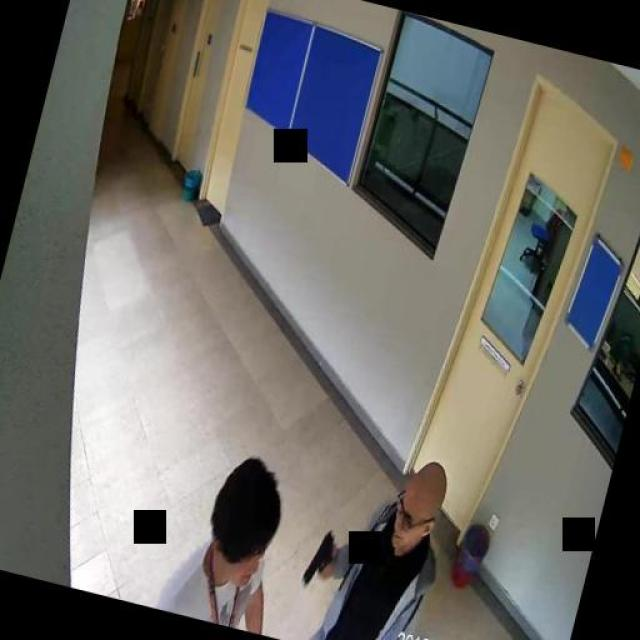gun: (301, 526, 339, 590)
